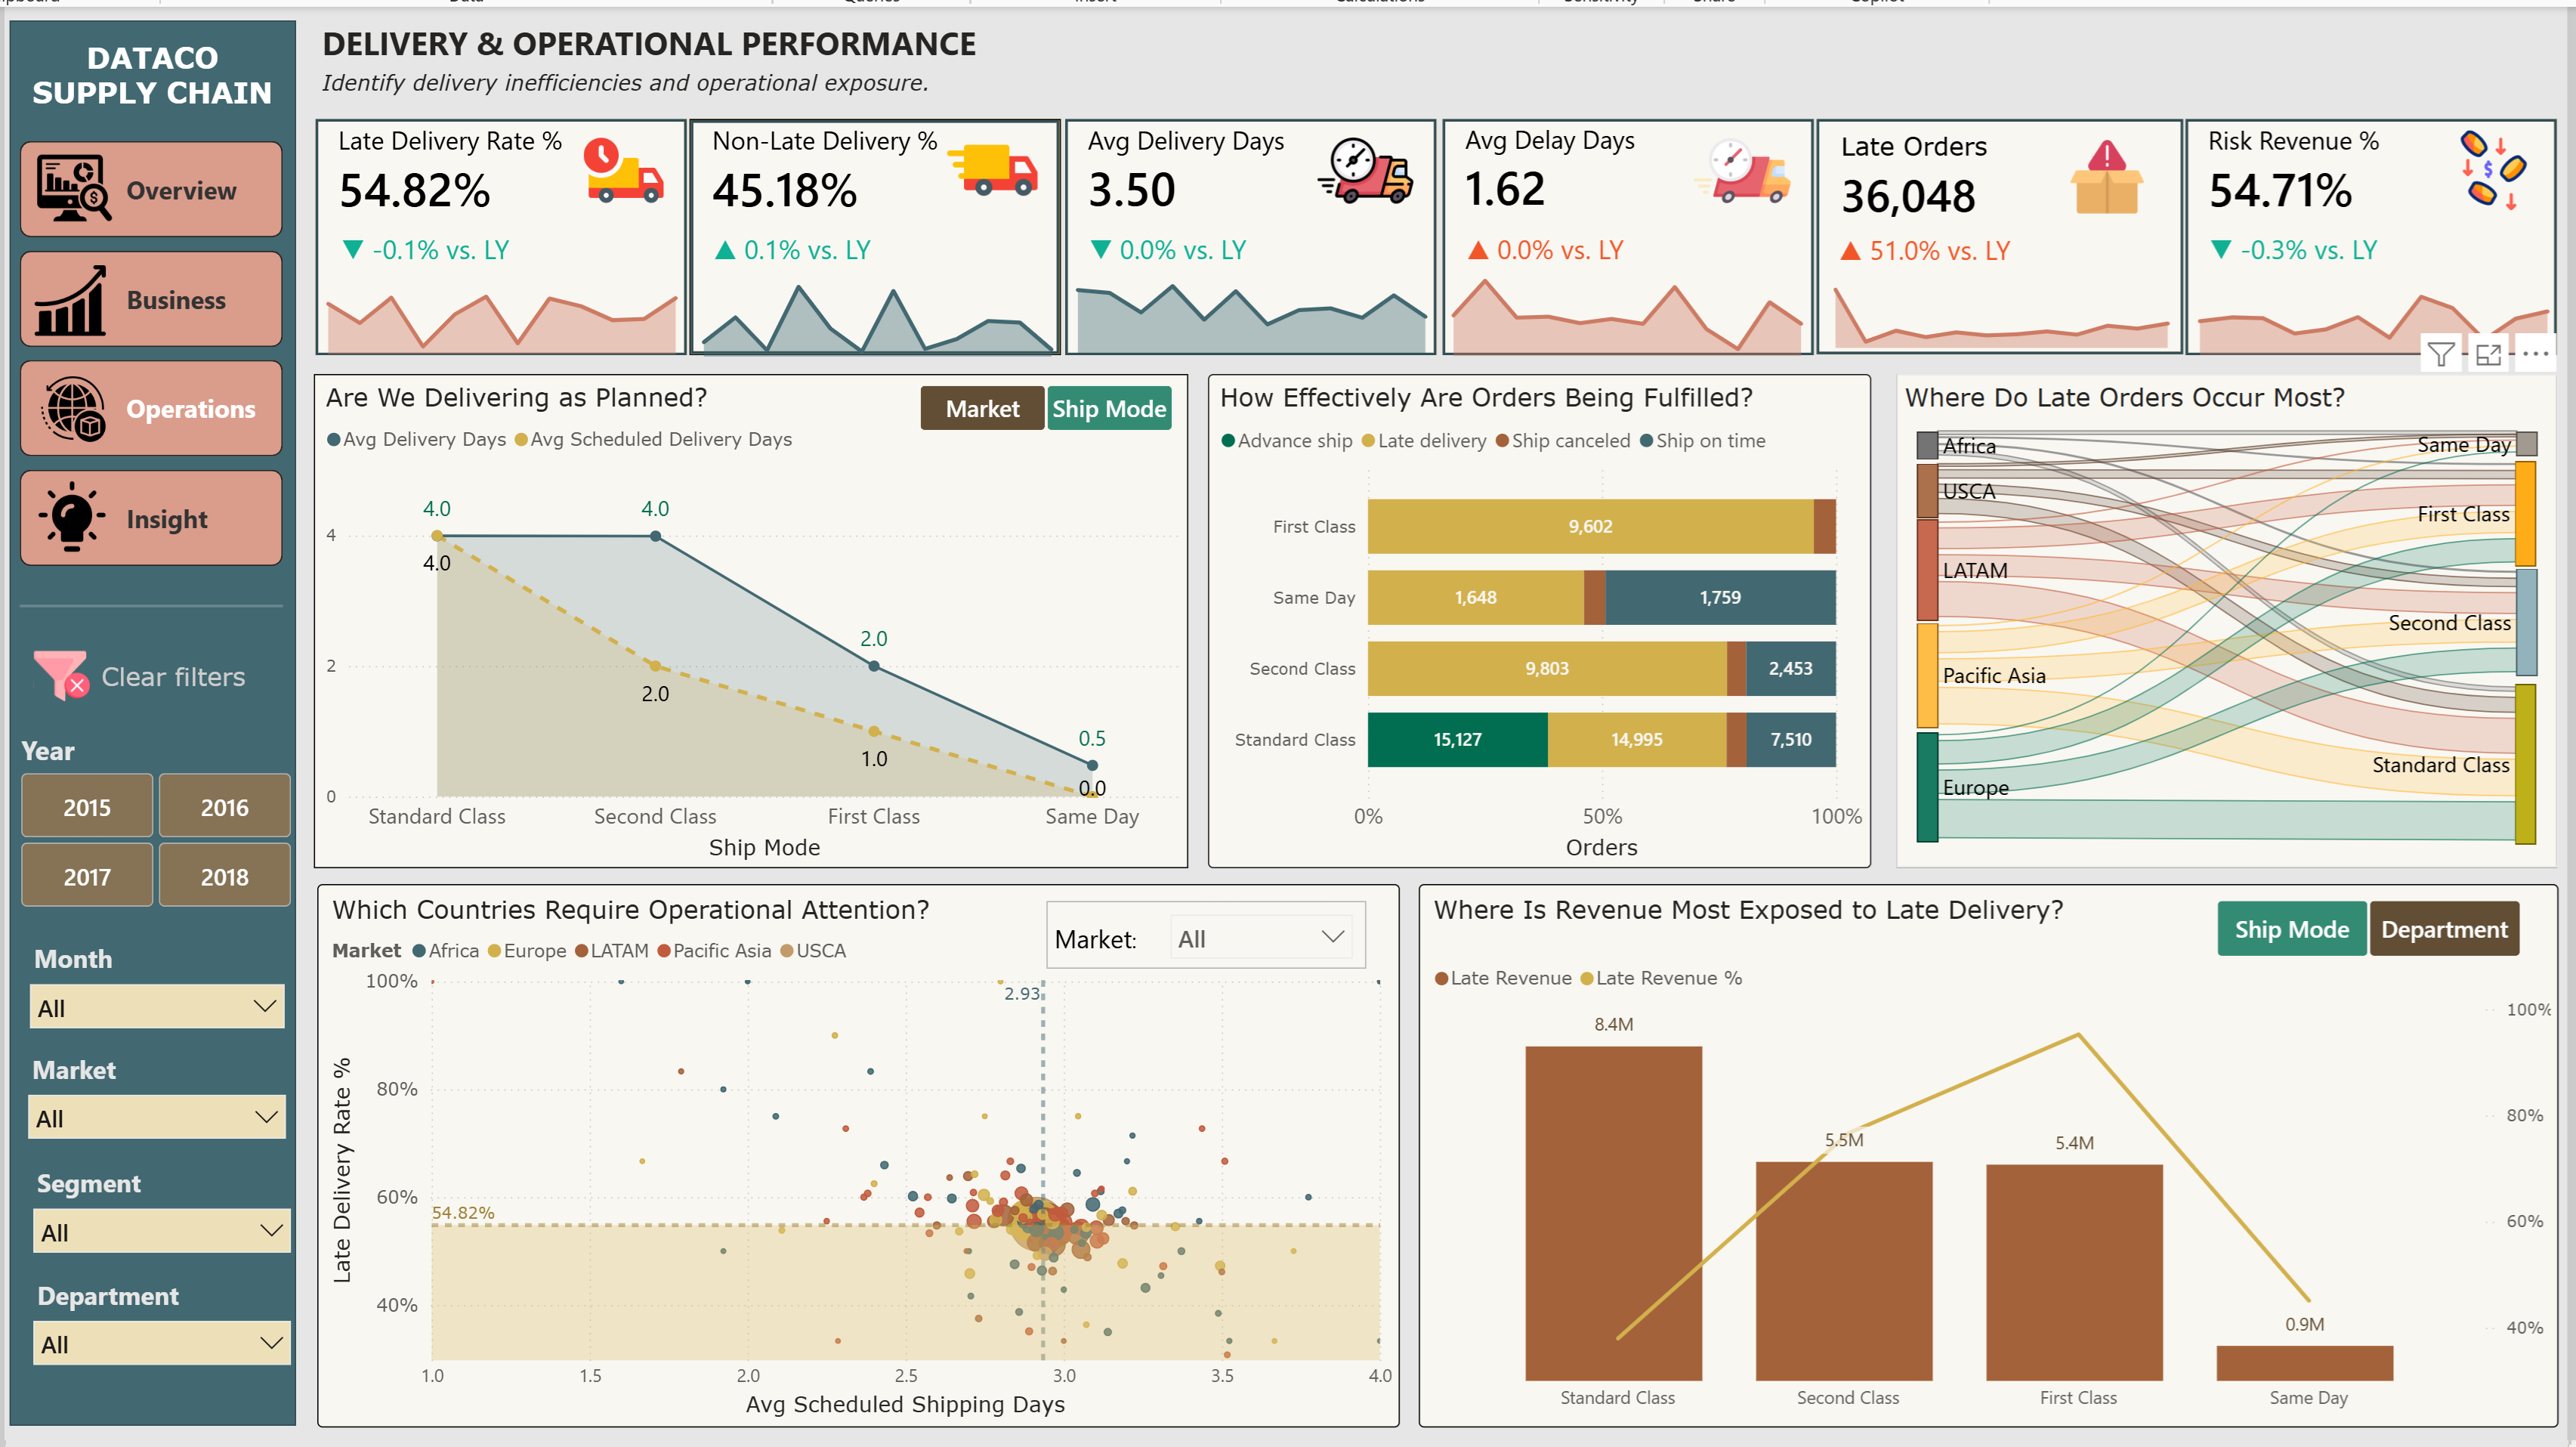

The dashboard page shown, as its layout file describes it:
{"tool":"powerbi","page":{"name":"Operations","canvas":[1920,1080],"ordinal":2},"visuals":[{"type":"shape","box":[513.9,83.4,278.1,177.1],"z":0,"group":"g3"},{"type":"shape","box":[232.9,83.8,278.1,177.1],"z":0,"group":"g2"},{"type":"shape","box":[794.8,83.8,278.1,177.1],"z":0,"group":"g4"},{"type":"shape","box":[1076.8,83.8,278.1,177.1],"z":0,"group":"g5"},{"type":"shape","box":[1633.4,83.8,278.1,177.1],"z":0,"group":"g6"},{"type":"group","id":"g1","title":"Scorecard Profit","box":[1357.8,84.2,276.2,176.2],"z":0},{"type":"shape","box":[1357.8,84.2,274.7,176.2],"z":0,"group":"g1"},{"type":"cardVisual","fields":{"Data":["_Measure.On-time Delivery Rate %"]},"box":[513.9,83.4,278.1,77.9],"z":1000,"group":"g3"},{"type":"group","id":"g2","title":"Group 1","box":[232.7,83.8,281.8,177.1],"z":1000},{"type":"cardVisual","fields":{"Data":["_Measure.Late Delivery Rate %"]},"box":[232.9,83.8,278.1,77.9],"z":1000,"group":"g2"},{"type":"cardVisual","fields":{"Data":["_Measure.Avg Shipping Days"]},"box":[794.8,83.8,278.1,77.9],"z":1000,"group":"g4"},{"type":"cardVisual","fields":{"Data":["_Measure.Average Delay Days"]},"box":[1076.8,83.8,278.1,77.9],"z":1000,"group":"g5"},{"type":"cardVisual","fields":{"Data":["_Measure.Late Revenue %"]},"box":[1633.4,83.8,278.1,77.9],"z":1000,"group":"g6"},{"type":"cardVisual","fields":{"Data":["_Measure.Late Orders"]},"box":[1358.8,90.5,272.7,74.4],"z":1000,"group":"g1"},{"type":"group","id":"g3","title":"Group 1","box":[513.9,83.4,281.6,177.9],"z":2000},{"type":"cardVisual","fields":{"Data":["_Measure.On-time Delivery Day Label YoY"]},"box":[515.6,163.1,279.8,31.9],"z":2000,"group":"g3"},{"type":"cardVisual","fields":{"Data":["_Measure.Late Delivery Day Label YoY"]},"box":[234.6,163.5,279.8,31.9],"z":2000,"group":"g2"},{"type":"cardVisual","fields":{"Data":["_Measure.Avg Shipping Day Label YoY"]},"box":[796.5,163.5,279.8,31.9],"z":2000,"group":"g4"},{"type":"cardVisual","fields":{"Data":["_Measure.Avg Delivery Delay Days Label YoY"]},"box":[1078.5,163.5,279.8,31.9],"z":2000,"group":"g5"},{"type":"cardVisual","fields":{"Data":["_Measure.Late Revenue % Label YoY"]},"box":[1635.1,163.5,279.8,31.9],"z":2000,"group":"g6"},{"type":"cardVisual","fields":{"Data":["_Measure.Late Orders Label YoY"]},"box":[1357.8,165.5,276.2,29.2],"z":2000,"group":"g1"},{"type":"group","id":"g4","title":"Group 1","box":[794.8,83.8,281.6,177.1],"z":3000},{"type":"lineChart","fields":{"Y":["_Measure.Late Orders"],"Category":["Dim_Date.Month"]},"box":[1362.8,190.5,267.1,65.7],"z":3000,"group":"g1"},{"type":"lineChart","fields":{"Category":["Dim_Date.Month"],"Y":["_Measure.Late Revenue %"]},"box":[1634.2,190.8,279.4,69.8],"z":3000,"group":"g6"},{"type":"lineChart","fields":{"Category":["Dim_Date.Month"],"Y":["_Measure.On-time Delivery Rate %"]},"box":[514.6,191.4,279.4,69.8],"z":3000,"group":"g3"},{"type":"lineChart","fields":{"Category":["Dim_Date.Month"],"Y":["_Measure.Late Delivery Rate %"]},"box":[232.7,191.8,279.4,67.8],"z":3000,"group":"g2"},{"type":"lineChart","fields":{"Category":["Dim_Date.Month"],"Y":["_Measure.Avg Shipping Delay Days"]},"box":[1075.8,192.9,279.4,67.8],"z":3000,"group":"g5"},{"type":"lineChart","fields":{"Category":["Dim_Date.Month"],"Y":["_Measure.Avg Shipping Days"]},"box":[794.8,193.8,279.4,65.7],"z":3000,"group":"g4"},{"type":"group","id":"g5","title":"Group 1","box":[1075.8,83.8,282.6,177.1],"z":4000},{"type":"hundredPercentStackedBarChart","title":"How Effectively Are Orders Being Fulfilled?","fields":{"Category":["Dim_Delivery.Shipping Mode"],"Series":["Dim_Shipping.Delivery Status"],"Y":["_Measure.Orders"]},"box":[901.7,275,496.7,370],"z":5000},{"type":"lineClusteredColumnComboChart","title":"Where Is Revenue Most Exposed to Late Delivery?","fields":{"Category":["Dim_Delivery.Shipping Mode"],"Y":["_Measure.Late Revenue"],"Y2":["_Measure.Late Revenue %"]},"box":[1059.3,657.4,853.9,407.3],"z":6000},{"type":"group","id":"g6","title":"Group 1","box":[1633.4,83.8,281.6,177.1],"z":7000},{"type":"sankey02300D1BE6F5427989F3DE31CCA9E0F32020","title":"Where Do Late Orders Occur Most?","fields":{"Weight":["_Measure.Late Orders"],"Source":["Dim_Geography.Market"],"Destination":["Dim_Shipping.Shipping Mode"]},"box":[1417.9,274.8,495.3,369.9],"z":8000},{"type":"lineChart","title":"Are We Delivering as Planned?","fields":{"Category":["Dim_Delivery.Shipping Mode"],"Y":["_Measure.Avg Shipping Days","_Measure.Avg Scheduled Shipping Days"]},"box":[231.7,275,655,370],"z":9000},{"type":"scatterChart","title":"Which Countries Require Operational Attention?","fields":{"Series":["Dim_Geography.Market"],"Category":["Dim_Geography.Order Country"],"Size":["_Measure.Orders"],"Y":["_Measure.Late Delivery Rate %"],"X":["_Measure.Avg Scheduled Shipping Days"]},"box":[234,657.4,811,407.3],"z":10000},{"type":"advancedSlicerVisual","fields":{"Values":["Parameter.Parameter"]},"box":[686.5,284,188.5,33.1],"z":11000},{"type":"group","id":"g7","title":"Group 2","box":[780.6,669.9,241.2,51.8],"z":12000},{"type":"shape","box":[4.2,10.4,214.7,1052.8],"z":13000},{"type":"advancedSlicerVisual","fields":{"Values":["Dim_Date.Year"]},"box":[7.4,542.4,212.2,138.5],"z":14000},{"type":"slicer","fields":{"Values":["Dim_Date.Month"]},"box":[8.8,695.6,210.8,84],"z":15000},{"type":"slicer","fields":{"Values":["Dim_Geography.Market"]},"box":[7.9,778.7,213.2,85.3],"z":16000},{"type":"slicer","fields":{"Values":["Dim_Customer.Customer Segment"]},"box":[11.1,864,213.2,83.7],"z":17000},{"type":"actionButton","box":[17.7,476,191.6,50.1],"z":18000},{"type":"shape","box":[11.4,420,197.1,57.1],"z":19000},{"type":"slicer","fields":{"Values":["Dim_Product.Department Name"]},"box":[11.1,947.7,213.2,82.1],"z":20000},{"type":"pageNavigator","box":[11.1,100,197.2,319.4],"z":21000},{"type":"textbox","box":[780.6,669.9,239.7,50.8],"z":21000,"group":"g7"},{"type":"image","title":"Overview","box":[12.3,106.2,79.2,60],"z":22000},{"type":"slicer","fields":{"Values":["Dim_Geography.Market"]},"box":[863.8,669.9,156.5,50.8],"z":22000,"group":"g7"},{"type":"image","title":"Overview","box":[11.5,193.8,75.4,53.1],"z":23000},{"type":"image","title":"Overview","box":[12.3,274.6,77.7,52.3],"z":24000},{"type":"image","title":"Overview","box":[10.8,353.8,80.8,55.4],"z":25000},{"type":"advancedSlicerVisual","fields":{"Values":["Metric.Metric"]},"box":[1657.7,670.3,226.5,41.7],"z":26000},{"type":"textbox","box":[2.1,20.8,216.8,79.2],"z":27000},{"type":"textbox","title":"DELIVERY & OPERATIONAL PERFORMANCE","box":[233.3,9.9,716.2,73.9],"z":28000}]}

Visuals, with their boxes on the page's 1920x1080 design canvas (x1, y1, x2, y2). These are canvas units, not pixel positions in the 2576x1447 screenshot, which may show the page scaled, cropped or inside an application window:
shape: [x1=514, y1=83, x2=792, y2=260]
shape: [x1=233, y1=84, x2=511, y2=261]
shape: [x1=795, y1=84, x2=1073, y2=261]
shape: [x1=1077, y1=84, x2=1355, y2=261]
shape: [x1=1633, y1=84, x2=1912, y2=261]
"Scorecard Profit" group: [x1=1358, y1=84, x2=1634, y2=260]
shape: [x1=1358, y1=84, x2=1632, y2=260]
cardVisual - _Measure.On-time Delivery Rate %: [x1=514, y1=83, x2=792, y2=161]
"Group 1" group: [x1=233, y1=84, x2=514, y2=261]
cardVisual - _Measure.Late Delivery Rate %: [x1=233, y1=84, x2=511, y2=162]
cardVisual - _Measure.Avg Shipping Days: [x1=795, y1=84, x2=1073, y2=162]
cardVisual - _Measure.Average Delay Days: [x1=1077, y1=84, x2=1355, y2=162]
cardVisual - _Measure.Late Revenue %: [x1=1633, y1=84, x2=1912, y2=162]
cardVisual - _Measure.Late Orders: [x1=1359, y1=90, x2=1632, y2=165]
"Group 1" group: [x1=514, y1=83, x2=796, y2=261]
cardVisual - _Measure.On-time Delivery Day Label YoY: [x1=516, y1=163, x2=795, y2=195]
cardVisual - _Measure.Late Delivery Day Label YoY: [x1=235, y1=164, x2=514, y2=195]
cardVisual - _Measure.Avg Shipping Day Label YoY: [x1=796, y1=164, x2=1076, y2=195]
cardVisual - _Measure.Avg Delivery Delay Days Label YoY: [x1=1078, y1=164, x2=1358, y2=195]
cardVisual - _Measure.Late Revenue % Label YoY: [x1=1635, y1=164, x2=1915, y2=195]
cardVisual - _Measure.Late Orders Label YoY: [x1=1358, y1=166, x2=1634, y2=195]
"Group 1" group: [x1=795, y1=84, x2=1076, y2=261]
lineChart - _Measure.Late Orders x Dim_Date.Month: [x1=1363, y1=190, x2=1630, y2=256]
lineChart - Dim_Date.Month x _Measure.Late Revenue %: [x1=1634, y1=191, x2=1914, y2=261]
lineChart - Dim_Date.Month x _Measure.On-time Delivery Rate %: [x1=515, y1=191, x2=794, y2=261]
lineChart - Dim_Date.Month x _Measure.Late Delivery Rate %: [x1=233, y1=192, x2=512, y2=260]
lineChart - Dim_Date.Month x _Measure.Avg Shipping Delay Days: [x1=1076, y1=193, x2=1355, y2=261]
lineChart - Dim_Date.Month x _Measure.Avg Shipping Days: [x1=795, y1=194, x2=1074, y2=260]
"Group 1" group: [x1=1076, y1=84, x2=1358, y2=261]
"How Effectively Are Orders Being Fulfilled?" hundredPercentStackedBarChart: [x1=902, y1=275, x2=1398, y2=645]
"Where Is Revenue Most Exposed to Late Delivery?" lineClusteredColumnComboChart: [x1=1059, y1=657, x2=1913, y2=1065]
"Group 1" group: [x1=1633, y1=84, x2=1915, y2=261]
"Where Do Late Orders Occur Most?" sankey02300D1BE6F5427989F3DE31CCA9E0F32020: [x1=1418, y1=275, x2=1913, y2=645]
"Are We Delivering as Planned?" lineChart: [x1=232, y1=275, x2=887, y2=645]
"Which Countries Require Operational Attention?" scatterChart: [x1=234, y1=657, x2=1045, y2=1065]
advancedSlicerVisual - Parameter.Parameter: [x1=686, y1=284, x2=875, y2=317]
"Group 2" group: [x1=781, y1=670, x2=1022, y2=722]
shape: [x1=4, y1=10, x2=219, y2=1063]
advancedSlicerVisual - Dim_Date.Year: [x1=7, y1=542, x2=220, y2=681]
slicer - Dim_Date.Month: [x1=9, y1=696, x2=220, y2=780]
slicer - Dim_Geography.Market: [x1=8, y1=779, x2=221, y2=864]
slicer - Dim_Customer.Customer Segment: [x1=11, y1=864, x2=224, y2=948]
actionButton: [x1=18, y1=476, x2=209, y2=526]
shape: [x1=11, y1=420, x2=208, y2=477]
slicer - Dim_Product.Department Name: [x1=11, y1=948, x2=224, y2=1030]
pageNavigator: [x1=11, y1=100, x2=208, y2=419]
textbox: [x1=781, y1=670, x2=1020, y2=721]
"Overview" image: [x1=12, y1=106, x2=92, y2=166]
slicer - Dim_Geography.Market: [x1=864, y1=670, x2=1020, y2=721]
"Overview" image: [x1=12, y1=194, x2=87, y2=247]
"Overview" image: [x1=12, y1=275, x2=90, y2=327]
"Overview" image: [x1=11, y1=354, x2=92, y2=409]
advancedSlicerVisual - Metric.Metric: [x1=1658, y1=670, x2=1884, y2=712]
textbox: [x1=2, y1=21, x2=219, y2=100]
"DELIVERY & OPERATIONAL PERFORMANCE" textbox: [x1=233, y1=10, x2=950, y2=84]
